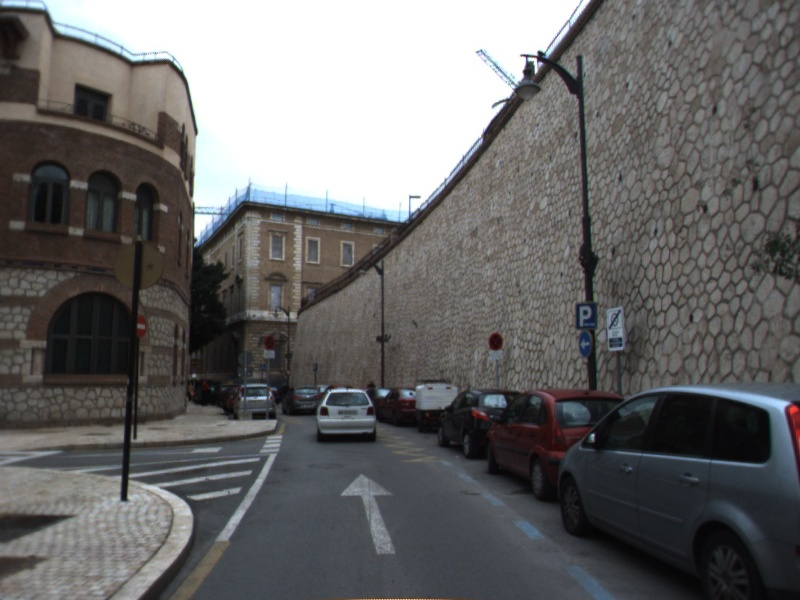STRAIGHT: (338, 472, 398, 556)
